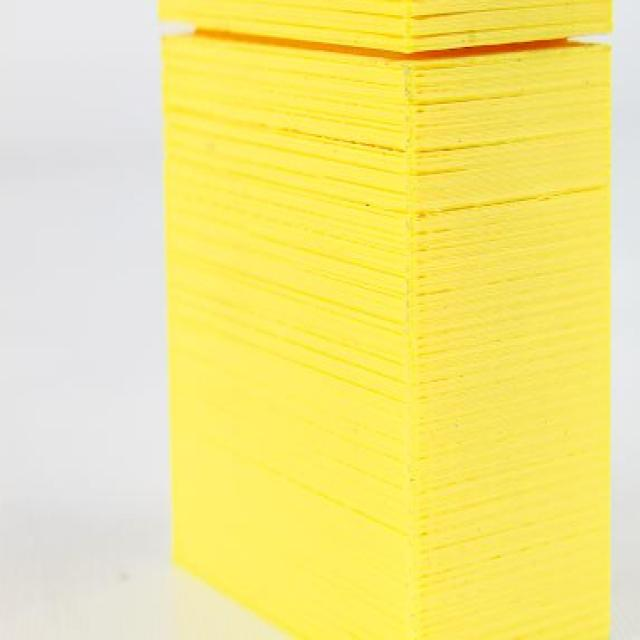cracks: (157, 7, 610, 76), (412, 183, 604, 297), (261, 118, 416, 166), (419, 137, 529, 183)
